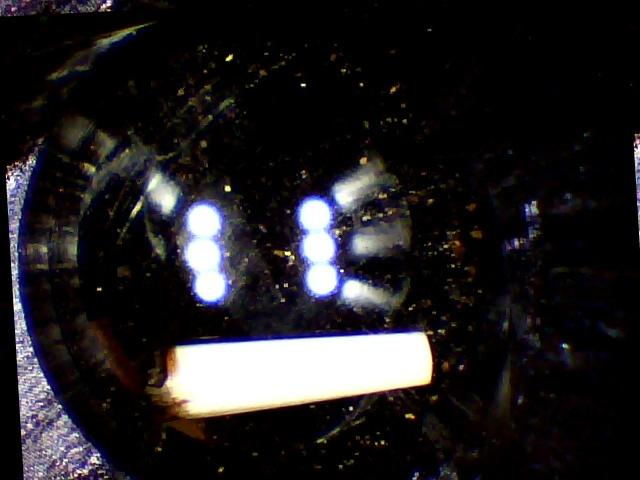megot: (128, 318, 454, 426)
